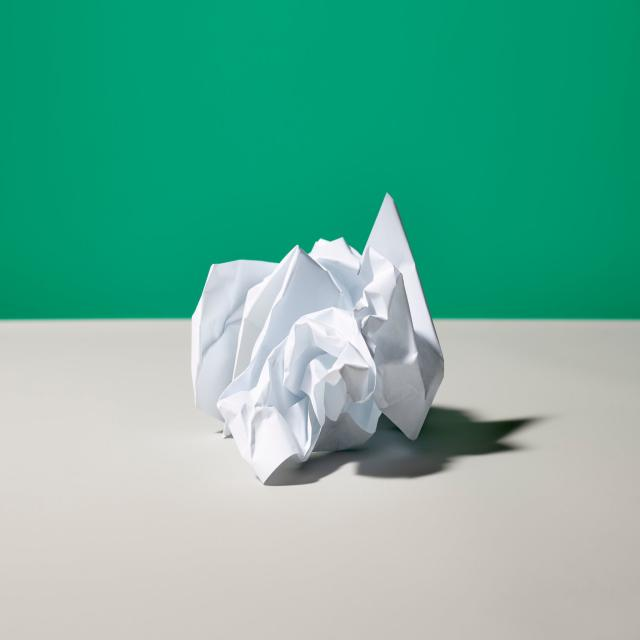paper: (166, 183, 458, 550)
